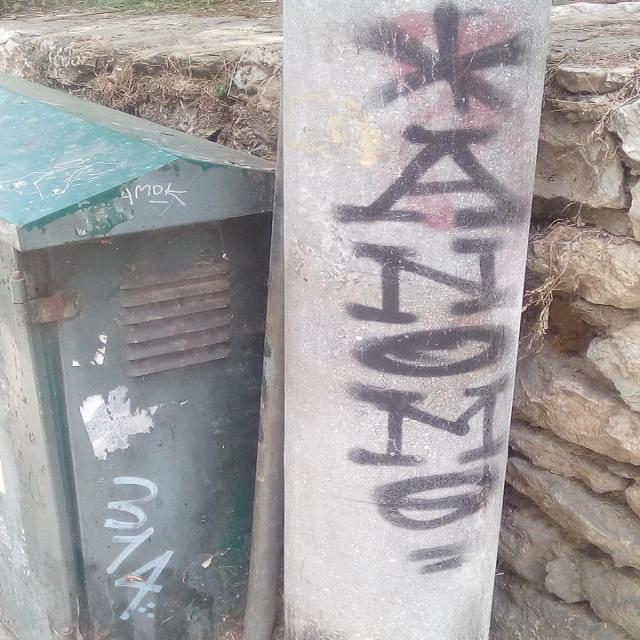nonspitting: (336, 4, 522, 572), (108, 478, 176, 620), (119, 180, 191, 210)
